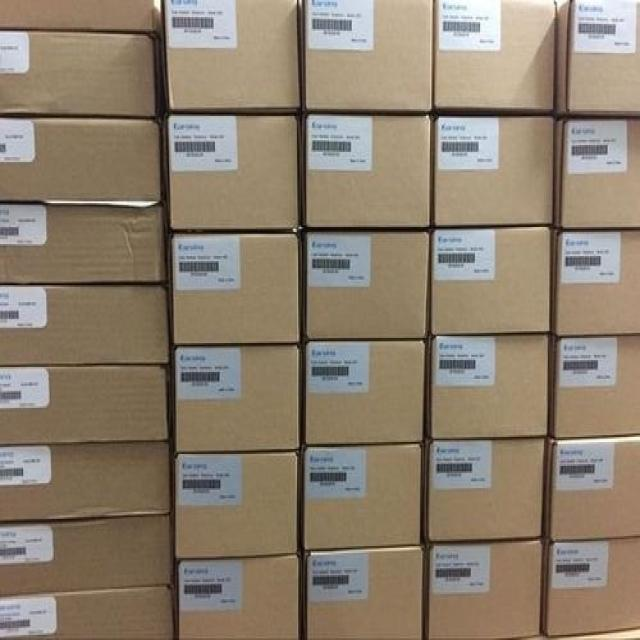box: (161, 0, 300, 110), (167, 115, 300, 228), (1, 118, 161, 208), (304, 0, 433, 111), (433, 0, 556, 113), (171, 235, 299, 343), (307, 115, 430, 227), (0, 515, 172, 595), (0, 284, 169, 365), (426, 226, 551, 335), (431, 117, 555, 226), (0, 204, 167, 284), (0, 442, 171, 520), (1, 29, 154, 116), (175, 345, 299, 452), (0, 365, 167, 444), (307, 233, 429, 339), (175, 452, 297, 557), (426, 334, 549, 438), (422, 438, 544, 542), (305, 445, 422, 550), (306, 342, 425, 443), (425, 541, 541, 638), (306, 545, 423, 638), (541, 535, 640, 636), (545, 435, 639, 541), (179, 555, 299, 638), (551, 230, 638, 336), (549, 335, 638, 438), (555, 119, 639, 227), (0, 586, 174, 638), (568, 0, 639, 112), (0, 1, 160, 34)
